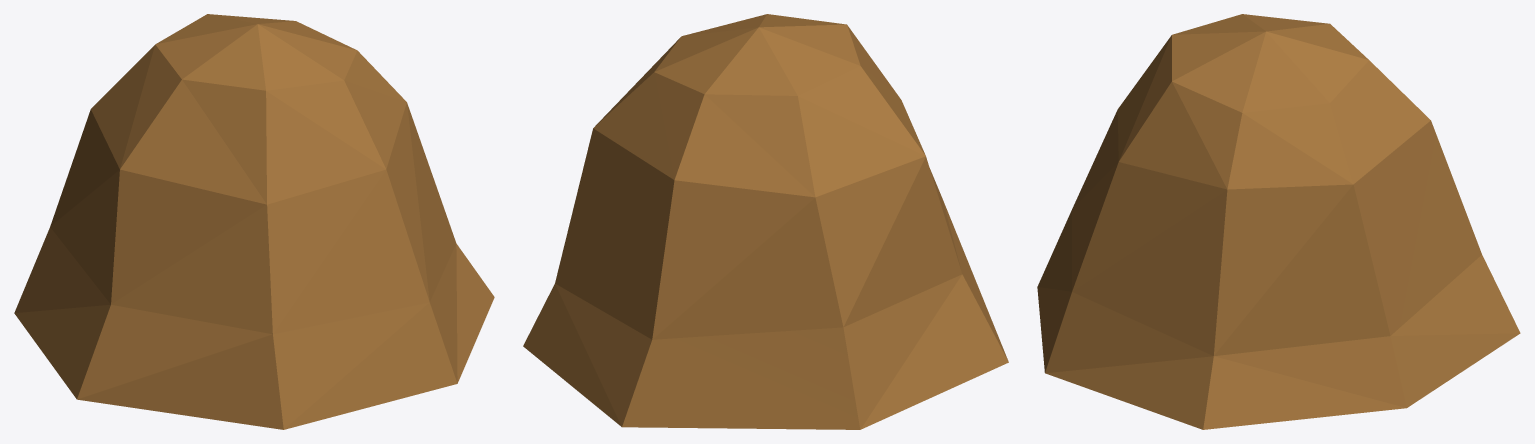
The model's file is farm_hay-pile.fbx.
3 views of the same model, side by side, from view 1: azimuth 30°, elevation 25°; view 2: azimuth 150°, elevation 25°; view 3: azimuth 270°, elevation 25° (orthographic). The views are drawn at different scales.
Visible parts, largest first — view 1: farm_hay_pile; view 2: farm_hay_pile; view 3: farm_hay_pile.
Boxes of the visible parts, <box> form: farm_hay_pile: <box>14,14,494,429</box>; farm_hay_pile: <box>523,14,1008,429</box>; farm_hay_pile: <box>1037,14,1520,429</box>.
Bounding box in the file's own units: 199 × 136 × 200.
